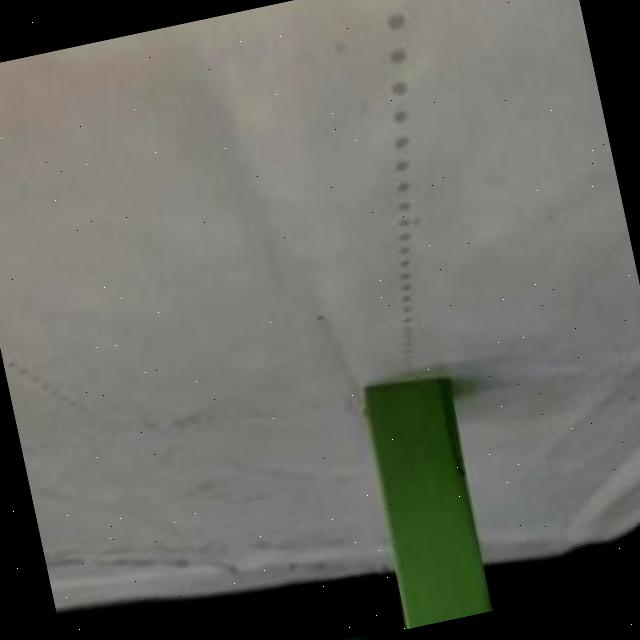greenbox: (353, 369, 496, 629)
